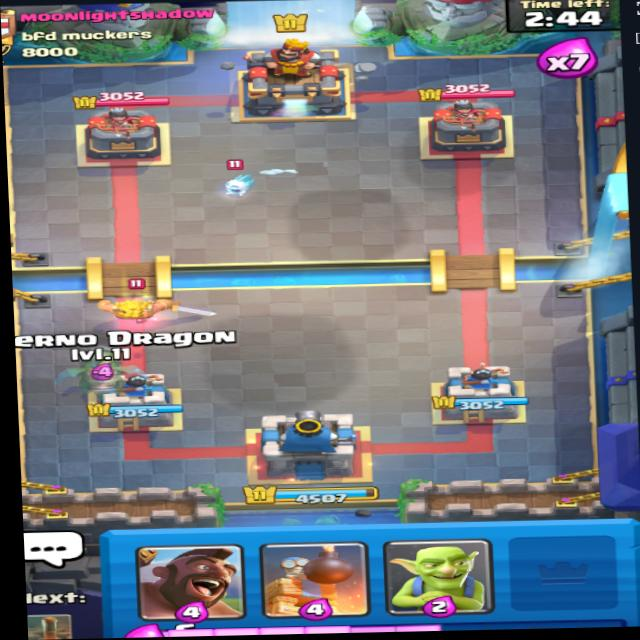golden-knight: (94, 274, 181, 329)
golden-knight-ability: (98, 282, 213, 332)
ice-spirit: (209, 160, 275, 202)
